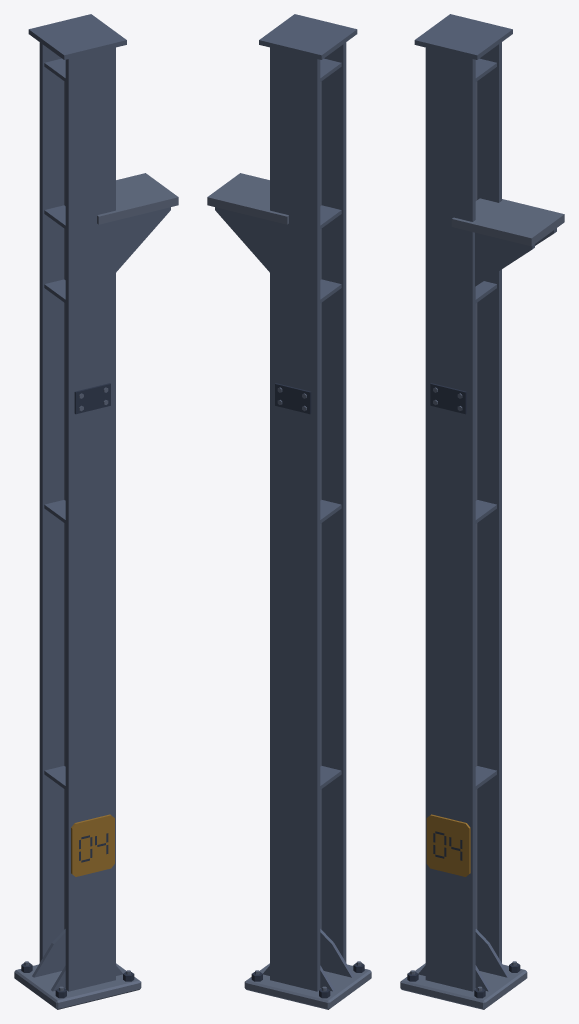
File: wh_hall_column.glb
The picture shows the model from 3 angles, left to right: view 1: azimuth 30°, elevation 25°; view 2: azimuth 150°, elevation 25°; view 3: azimuth 330°, elevation 25°; orthographic projection.
Visible parts, largest first — view 1: base_gusset, base_plate, column_marker, digit; view 2: base_gusset, base_plate, digit; view 3: base_gusset, base_plate, column_marker, digit.
Boxes of the visible parts, left/top/right/bottom form: base_gusset: left=28, top=14, right=170, bottom=991; base_plate: left=14, top=81, right=178, bottom=1009; column_marker: left=71, top=814, right=114, bottom=876; digit: left=21, top=383, right=134, bottom=998; base_gusset: left=215, top=14, right=357, bottom=991; base_plate: left=207, top=81, right=371, bottom=1009; digit: left=251, top=383, right=364, bottom=998; base_gusset: left=414, top=14, right=556, bottom=991; base_plate: left=400, top=81, right=564, bottom=1009; column_marker: left=426, top=814, right=470, bottom=876; digit: left=407, top=383, right=520, bottom=998.
Size of the model in its own units: 1.4 by 10 by 0.83.
